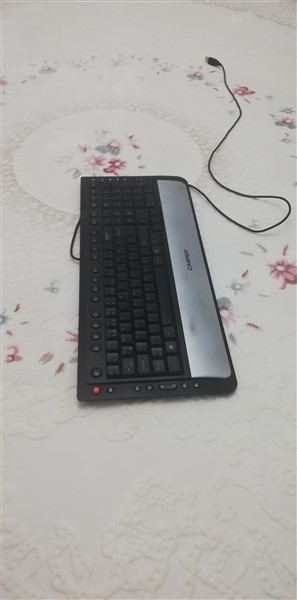klavye: (74, 171, 246, 406)
